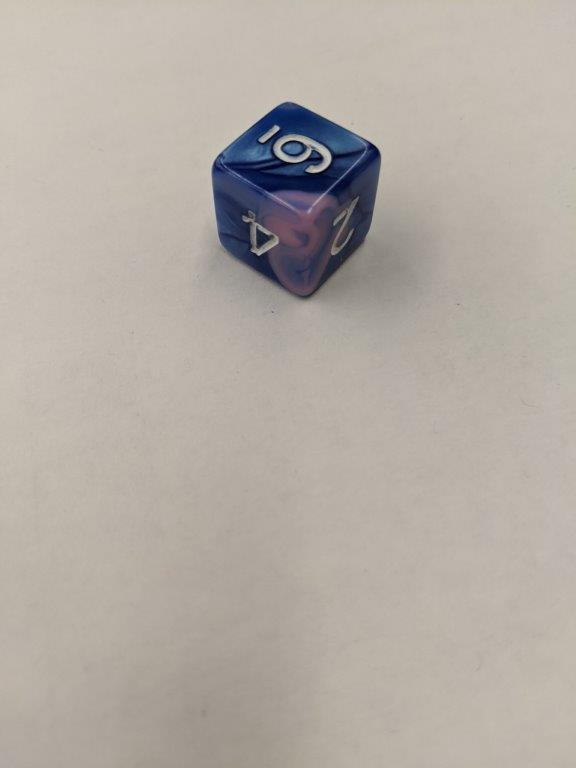d6-6: (212, 100, 385, 299)
